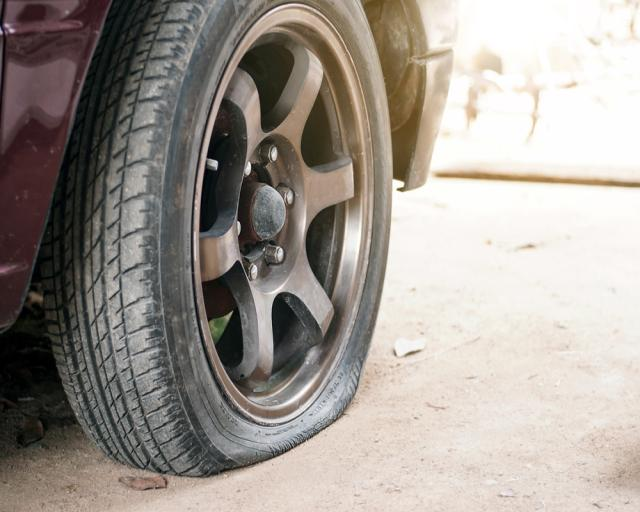tire flat: (38, 0, 393, 479)
